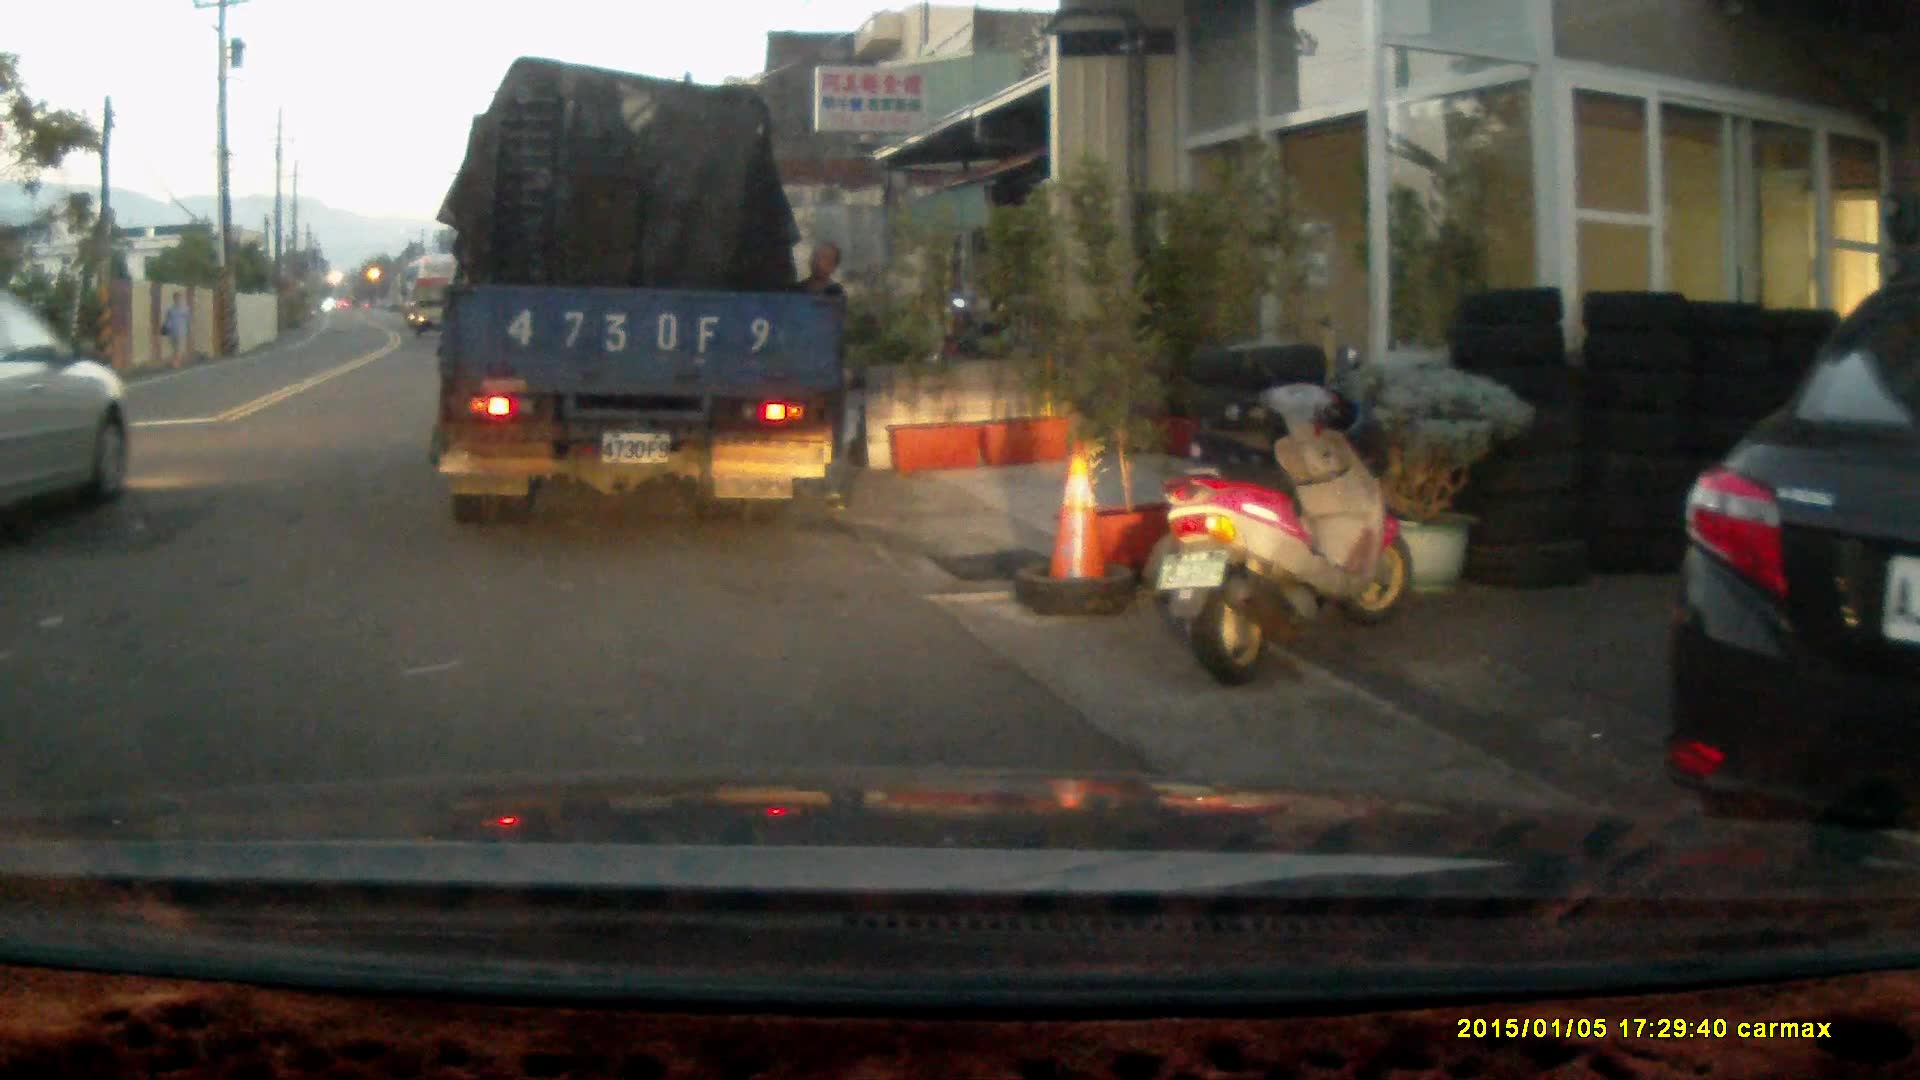pedestrian: (160, 288, 195, 364)
vehicle: (432, 67, 849, 515), (1657, 273, 1920, 863), (1, 292, 131, 525), (403, 252, 465, 327), (412, 281, 461, 337)
